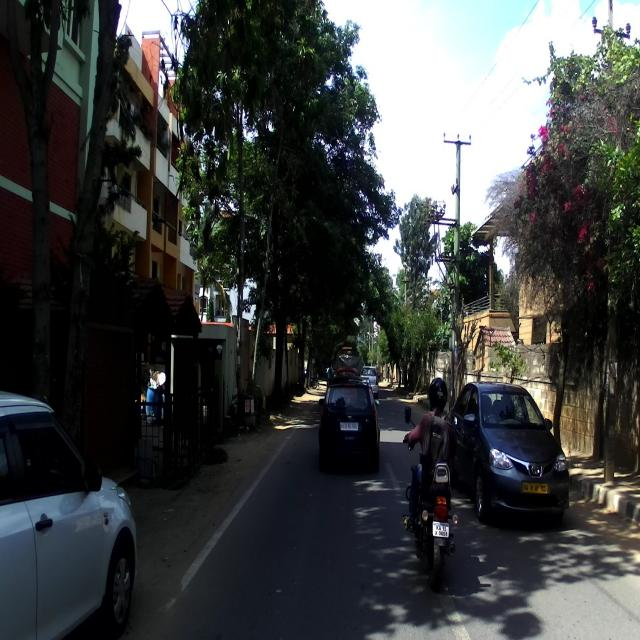car: (0, 392, 139, 640), (444, 380, 569, 526), (316, 378, 382, 470), (359, 365, 379, 392)
motorcycle: (401, 404, 466, 592)
